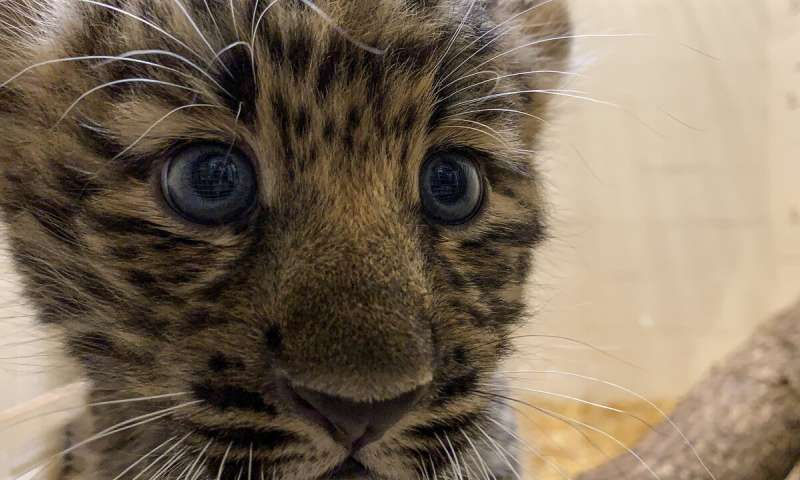amur_leopard: (3, 1, 606, 460)
